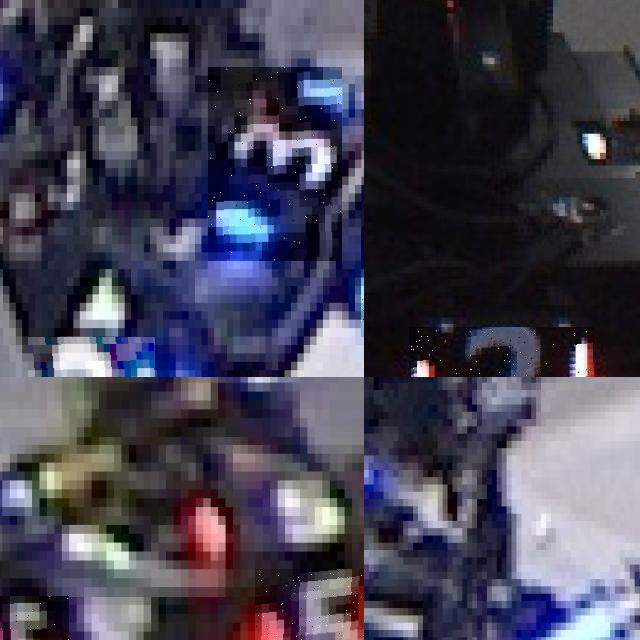B3: (208, 67, 342, 261), (28, 336, 156, 377)
R2: (409, 327, 594, 377)
R5: (255, 569, 364, 640), (0, 596, 69, 640)
